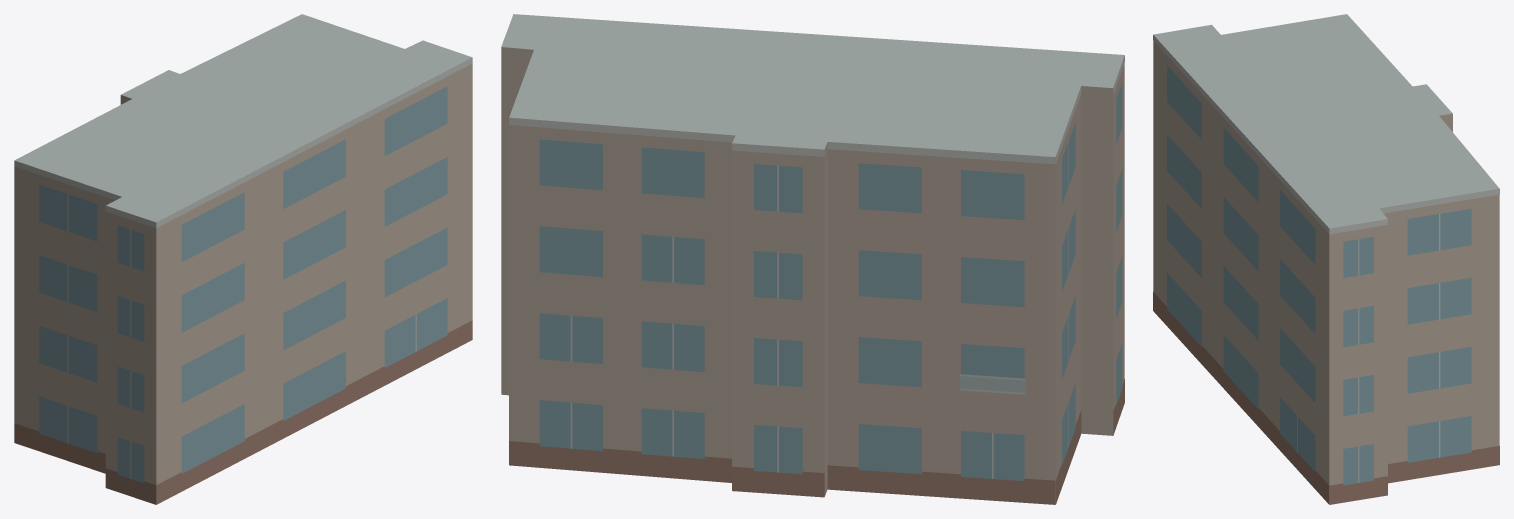
The model's file is survey-upis-33006128.glb.
The picture shows the model from 3 angles, left to right: view 1: azimuth 30°, elevation 25°; view 2: azimuth 150°, elevation 25°; view 3: azimuth 270°, elevation 25°; orthographic projection. The views are drawn at different scales.
Parts seen in each view (by area): view 1: survey-upis-33006128.tmp; view 2: survey-upis-33006128.tmp; view 3: survey-upis-33006128.tmp.
Boxes of the visible parts, box(x1,y1,x2,y2) form: survey-upis-33006128.tmp: box(14, 14, 472, 504); survey-upis-33006128.tmp: box(501, 14, 1124, 504); survey-upis-33006128.tmp: box(1153, 14, 1499, 504).
Bounding box in the file's own units: 19.33 × 11.6 × 13.2.
